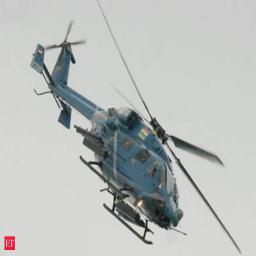helicopter: (31, 2, 243, 256)
